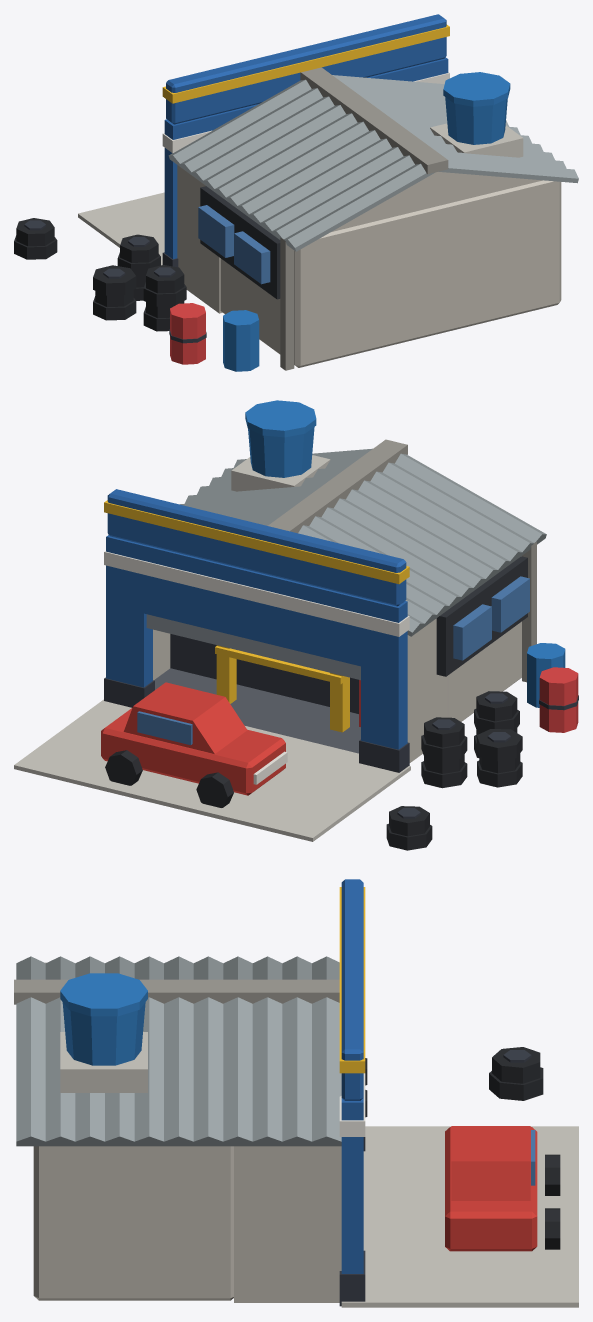
File: oficina.glb
3 views of the same model, one above another, from view 1: azimuth 30°, elevation 25°; view 2: azimuth 150°, elevation 25°; view 3: azimuth 270°, elevation 25° (orthographic). The views are drawn at different scales.
Visible parts, largest first — view 1: corpo; view 2: corpo; view 3: corpo.
Part boxes in pixels (x1,y1,x2,y2): corpo: [14, 14, 578, 371]; corpo: [14, 400, 578, 850]; corpo: [14, 879, 578, 1307].
Bounding box in the file's own units: 1.26 × 0.69 × 1.28.
